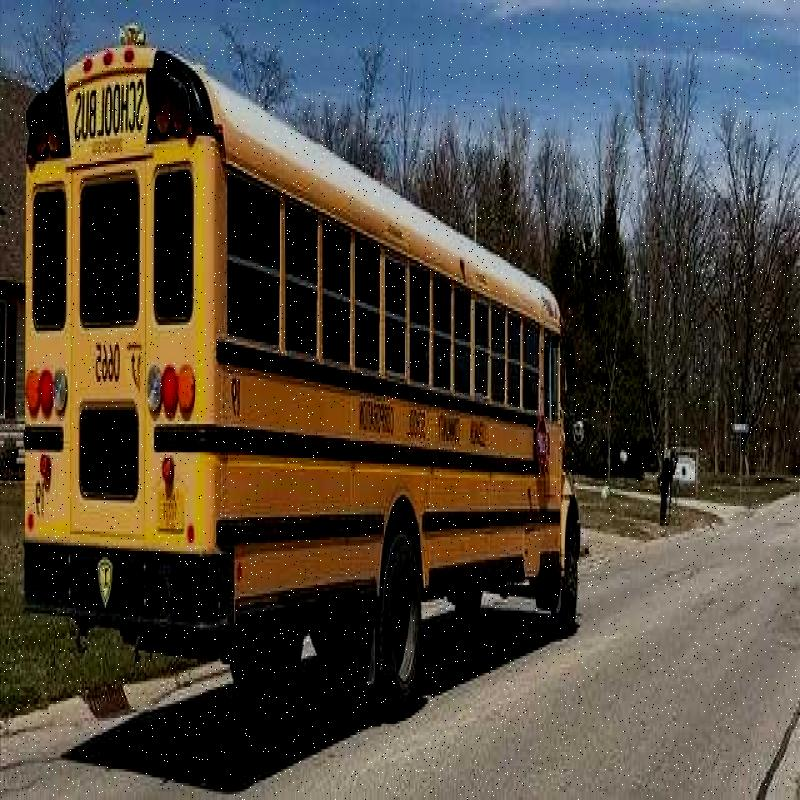bus: (6, 34, 586, 755)
